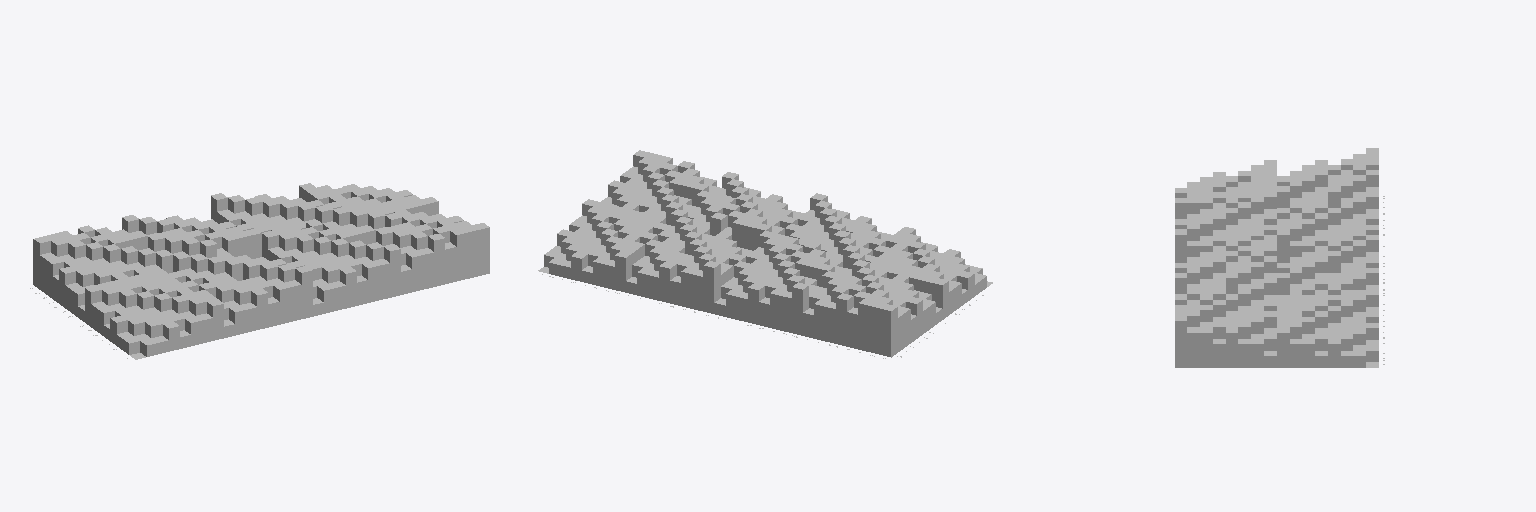
3 renders of one model, left to right at view 1: azimuth 30°, elevation 25°; view 2: azimuth 150°, elevation 25°; view 3: azimuth 270°, elevation 25°, orthographic.
Visible parts, largest first — view 1: Object(16,16)[length_4], Object(30,16)[length_4], Object(24,16)[length_4], Object(28,16)[length_4], Object(31,16)[length_4], Object(32,16)[length_4], Object(14,16)[length_3]; view 2: Object(1,1)[length_4], Object(17,1)[length_4], Object(9,1)[length_4], Object(5,1)[length_4], Object(25,1)[length_3], Object(3,1)[length_4], Object(2,1)[length_4], Object(21,1)[length_3]; view 3: Object(32,16)[length_4], Object(32,8)[length_3], Object(32,14)[length_3], Object(32,15)[length_3].
Part boxes in pixels (left/top/right/bottom): Object(16,16)[length_4]: left=295, top=266, right=312, bottom=318; Object(30,16)[length_4]: left=450, top=228, right=467, bottom=280; Object(24,16)[length_4]: left=384, top=244, right=400, bottom=297; Object(28,16)[length_4]: left=428, top=234, right=444, bottom=286; Object(31,16)[length_4]: left=462, top=225, right=478, bottom=278; Object(32,16)[length_4]: left=473, top=223, right=489, bottom=275; Object(14,16)[length_3]: left=273, top=283, right=290, bottom=324; Object(1,1)[length_4]: left=880, top=304, right=897, bottom=357; Object(17,1)[length_4]: left=703, top=261, right=720, bottom=313; Object(9,1)[length_4]: left=792, top=282, right=808, bottom=335; Object(5,1)[length_4]: left=836, top=293, right=853, bottom=346; Object(25,1)[length_3]: left=615, top=251, right=631, bottom=292; Object(3,1)[length_4]: left=858, top=299, right=874, bottom=351; Object(2,1)[length_4]: left=869, top=301, right=885, bottom=354; Object(21,1)[length_3]: left=659, top=262, right=676, bottom=302; Object(32,16)[length_4]: left=1175, top=316, right=1186, bottom=367; Object(32,8)[length_3]: left=1277, top=327, right=1289, bottom=367; Object(32,14)[length_3]: left=1200, top=327, right=1212, bottom=367; Object(32,15)[length_3]: left=1187, top=327, right=1199, bottom=367.
Bounding box in the file's own units: 32.73 × 4 × 16.5.